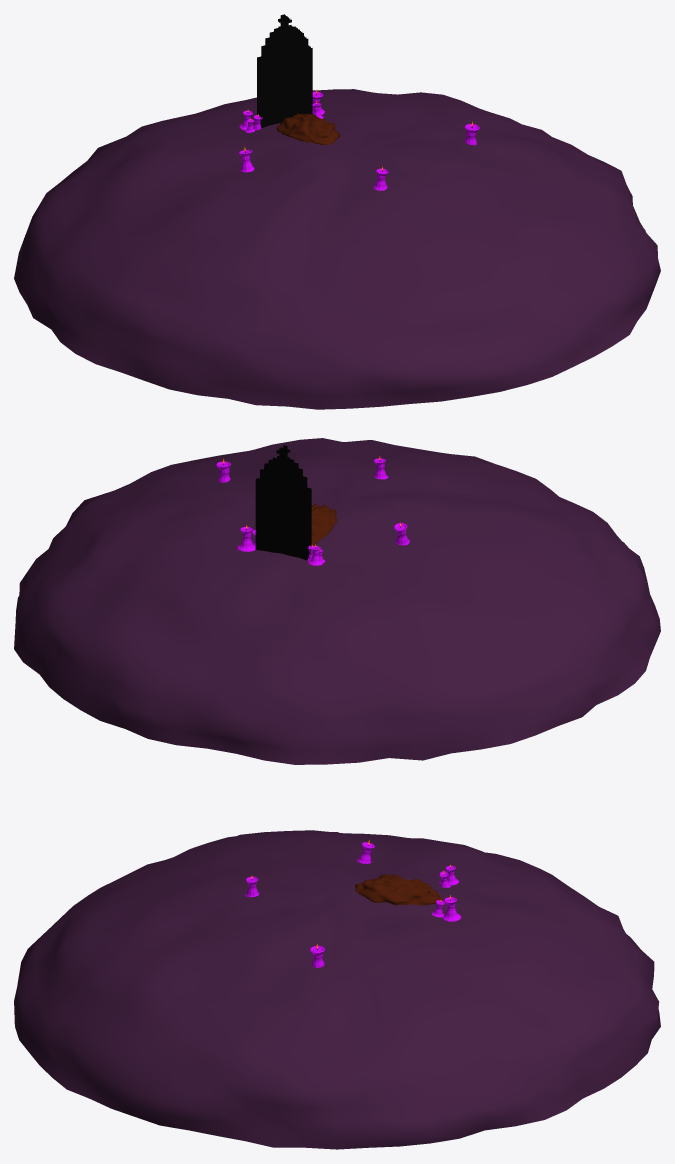
The model's file is scena.glb.
3 renders of one model, top to bottom at view 1: azimuth 30°, elevation 25°; view 2: azimuth 150°, elevation 25°; view 3: azimuth 270°, elevation 25°, orthographic.
Visible parts, largest first — view 1: zeme, nahrobek, hlina_pod_hrobem; view 2: zeme, nahrobek, hlina_pod_hrobem; view 3: zeme, hlina_pod_hrobem.
Boxes of the visible parts, <box> form: zeme: <box>14,89,660,409</box>; nahrobek: <box>257,14,312,128</box>; hlina_pod_hrobem: <box>276,113,339,145</box>; zeme: <box>14,438,660,764</box>; nahrobek: <box>255,445,311,560</box>; hlina_pod_hrobem: <box>311,504,337,545</box>; zeme: <box>14,830,660,1149</box>; hlina_pod_hrobem: <box>355,874,443,905</box>.
Size of the model in its own units: 1.97 by 0.738 by 1.97.
